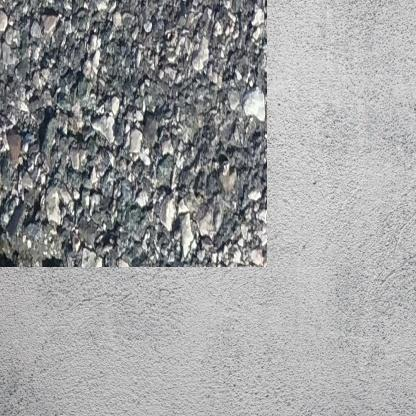Cracks: (0, 218, 61, 247)
